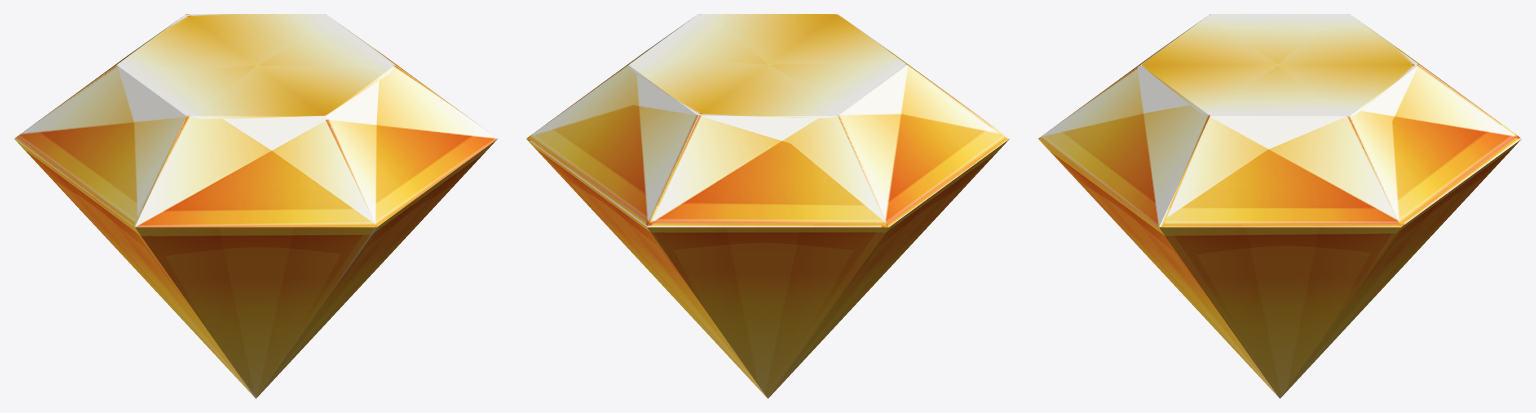
File: sketch.dae
3 renders of one model, left to right at view 1: azimuth 30°, elevation 25°; view 2: azimuth 150°, elevation 25°; view 3: azimuth 270°, elevation 25°, orthographic.
Parts seen in each view (by area): view 1: Cylinder; view 2: Cylinder; view 3: Cylinder.
Boxes of the visible parts, x1,y1,x2,y2 form: Cylinder: (14,14,497,398); Cylinder: (526,14,1009,398); Cylinder: (1038,14,1521,398).
Bounding box in the file's own units: 1.73 × 2 × 1.52.
1 material, 1 textured.
